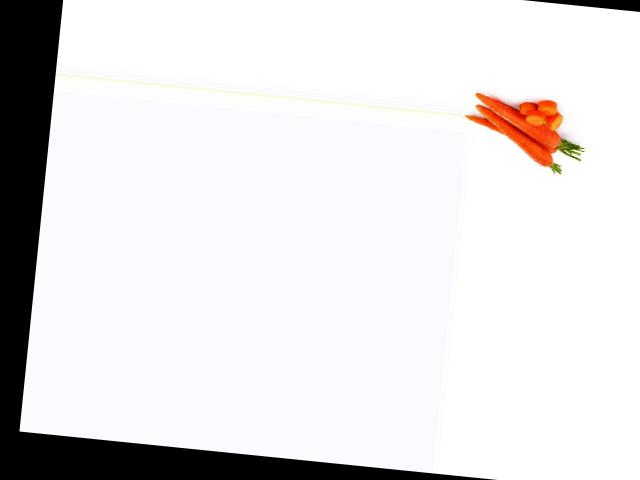carrot: (469, 92, 572, 151)
